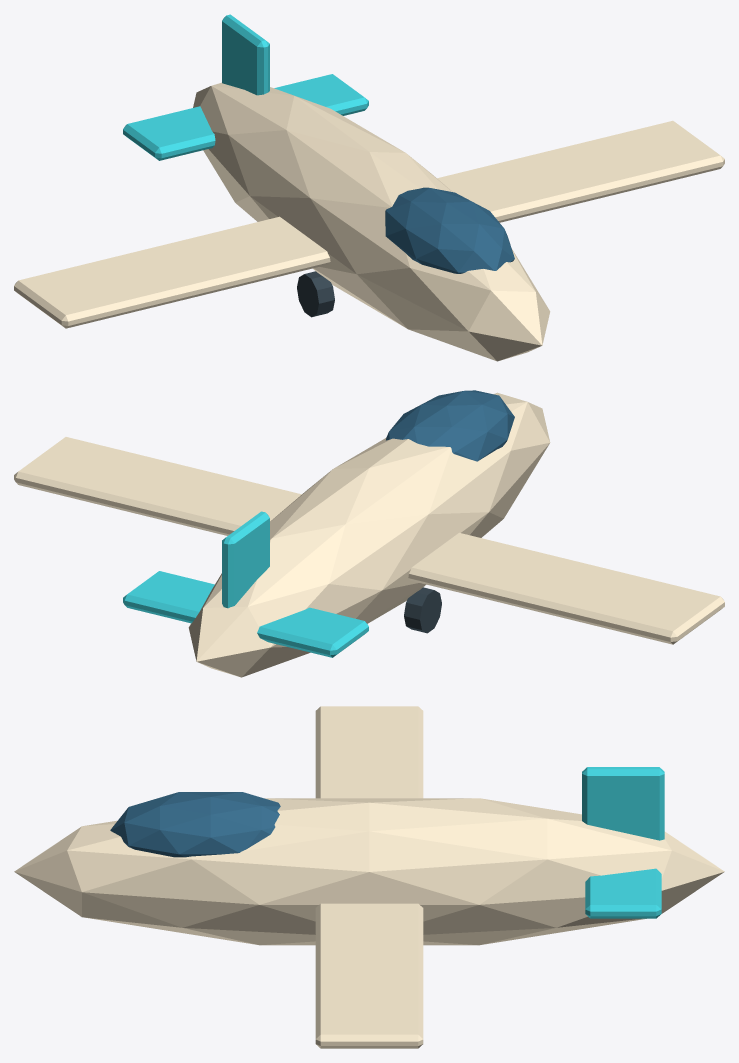
The model's file is small-airplane.glb.
The picture shows the model from 3 angles, top to bottom: view 1: azimuth 30°, elevation 25°; view 2: azimuth 150°, elevation 25°; view 3: azimuth 270°, elevation 25°; orthographic projection. The views are drawn at different scales.
Parts seen in each view (by area): view 1: fuselage, wing, cockpit, tail-wing, tail-fin, wheel; view 2: fuselage, wing, tail-wing, cockpit, tail-fin, wheel; view 3: fuselage, wing, cockpit, tail-fin, tail-wing.
Boxes of the visible parts, x1=… form: fuselage: x1=193, y1=82, x2=550, y2=361; wing: x1=14, y1=120, x2=724, y2=328; cockpit: x1=385, y1=187, x2=514, y2=273; tail-wing: x1=123, y1=74, x2=368, y2=160; tail-fin: x1=222, y1=14, x2=269, y2=95; wheel: x1=297, y1=271, x2=334, y2=317; fuselage: x1=188, y1=392, x2=550, y2=677; wing: x1=14, y1=437, x2=724, y2=644; tail-wing: x1=123, y1=571, x2=368, y2=657; cockpit: x1=386, y1=390, x2=514, y2=461; tail-fin: x1=222, y1=511, x2=269, y2=608; wheel: x1=404, y1=587, x2=441, y2=633; fuselage: x1=14, y1=798, x2=724, y2=945; wing: x1=315, y1=706, x2=423, y2=1048; cockpit: x1=110, y1=792, x2=280, y2=857; tail-fin: x1=582, y1=767, x2=664, y2=840; tail-wing: x1=585, y1=868, x2=661, y2=918.
Size of the model in its own units: 6.2 by 1.62 by 5.6.
